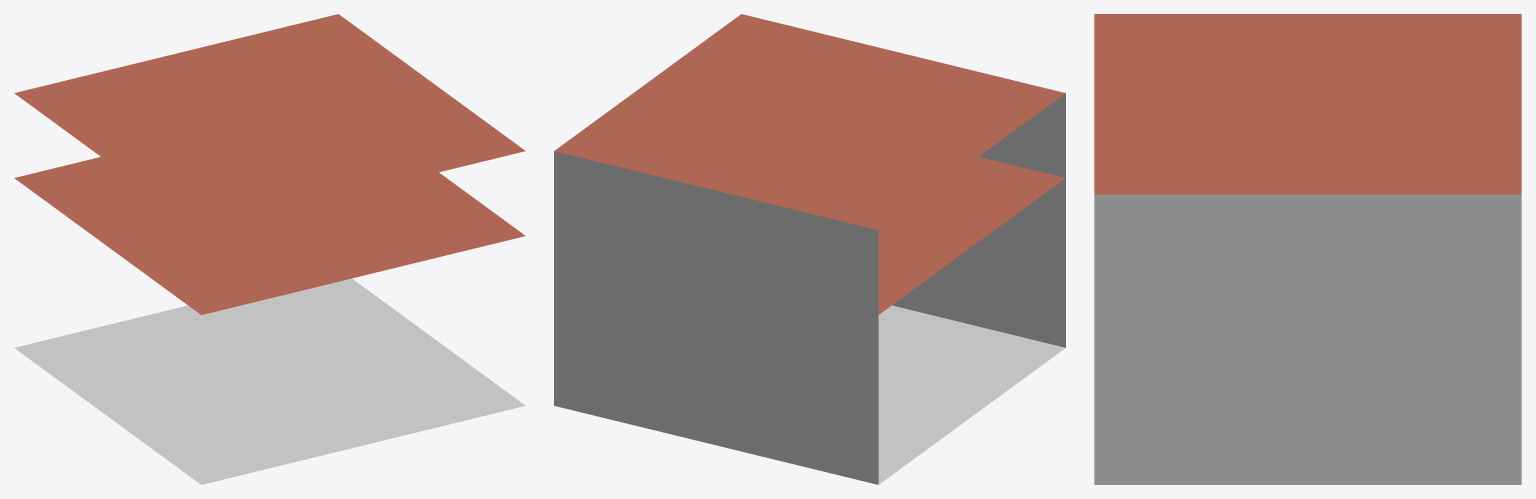
Rendered from twoSided.glb.
3 views of the same model, side by side, from view 1: azimuth 30°, elevation 25°; view 2: azimuth 150°, elevation 25°; view 3: azimuth 270°, elevation 25° (orthographic). The views are drawn at different scales.
Visible parts, largest first — view 1: lid (×2), twoSided; view 2: twoSided, lid (×2); view 3: twoSided, lid.
Boxes of the visible parts, x1,y1,x2,y2 form: lid (×2): (14, 14, 525, 314); twoSided: (14, 278, 525, 484); twoSided: (554, 93, 1065, 484); lid (×2): (554, 14, 1065, 314); twoSided: (1094, 194, 1521, 484); lid: (1094, 14, 1521, 194).
Bounding box in the file's own units: 2 × 1.5 × 2.
